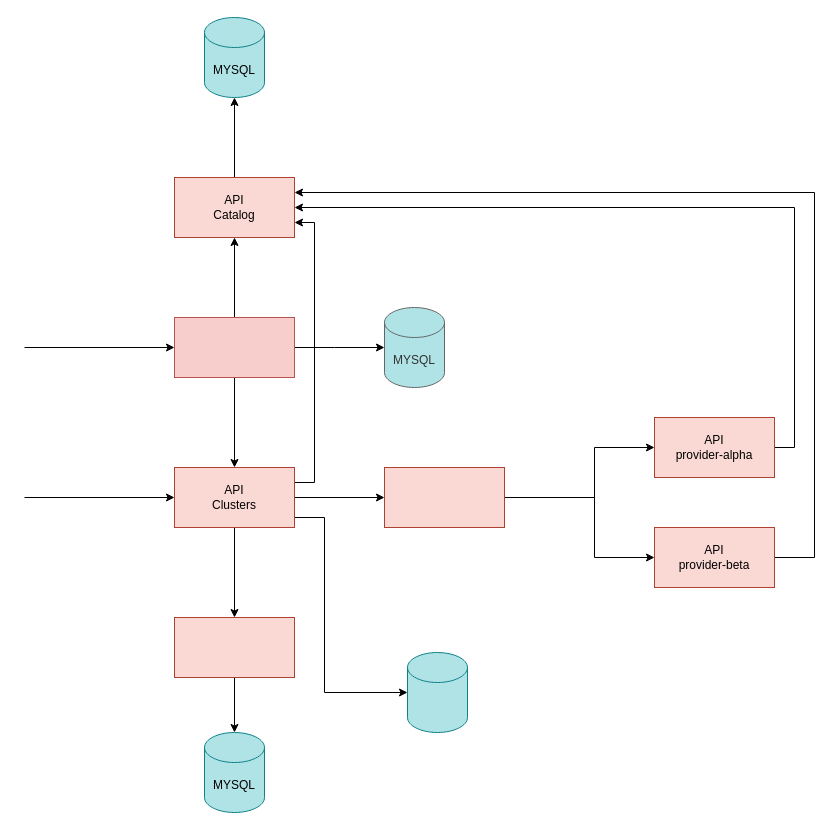
Some shapes in this 840 by 830 pixel diagram are drawn without their labels. Here are the shapes that lost their labels. From the top down, the centre of each, then its label:
At point 234,347: "API Reservation".
At point 444,497: "API Itineraries-search".
At point 234,647: "API Pricing".
At point 437,692: "Redis".
